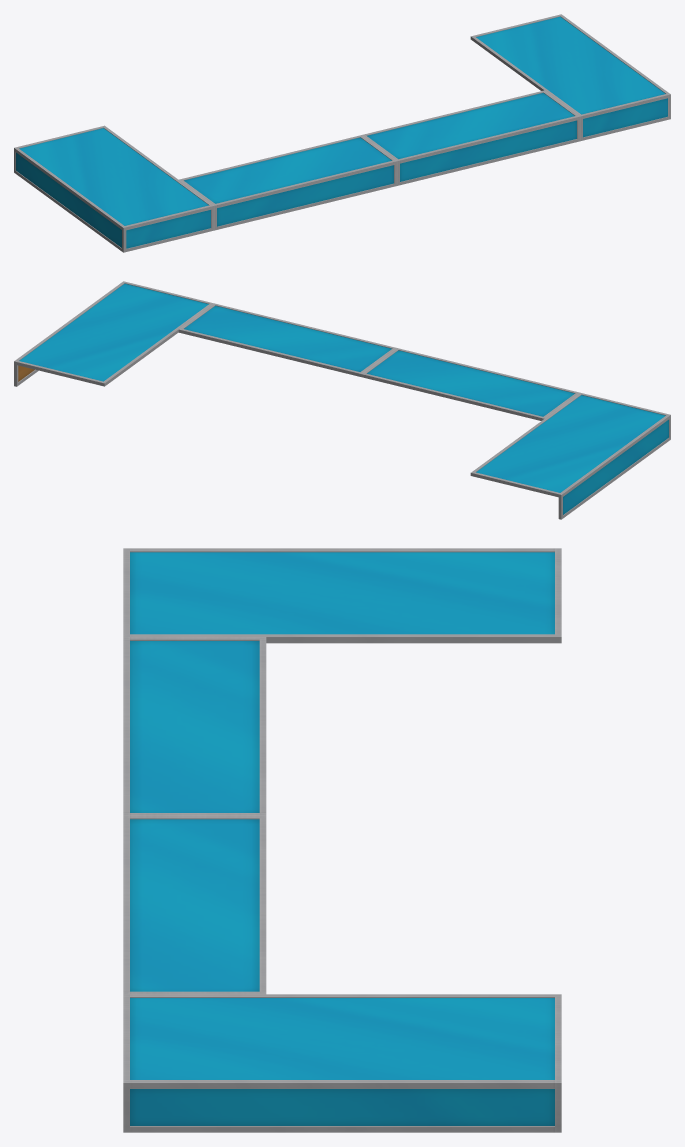
File: jsf_2P_s03_c02_t04_DX.fbx
3 views of the same model, one above another, from view 1: azimuth 30°, elevation 25°; view 2: azimuth 150°, elevation 25°; view 3: azimuth 270°, elevation 25° (orthographic). The views are drawn at different scales.
Visible parts, largest first — view 1: jsf_2P_s03_c02_t04_DX; view 2: jsf_2P_s03_c02_t04_DX; view 3: jsf_2P_s03_c02_t04_DX.
Boxes of the visible parts, <box> form: jsf_2P_s03_c02_t04_DX: <box>14,14,670,252</box>; jsf_2P_s03_c02_t04_DX: <box>14,281,670,519</box>; jsf_2P_s03_c02_t04_DX: <box>123,548,561,1132</box>.
Bounding box in the file's own units: 289 × 12.51 × 100.
